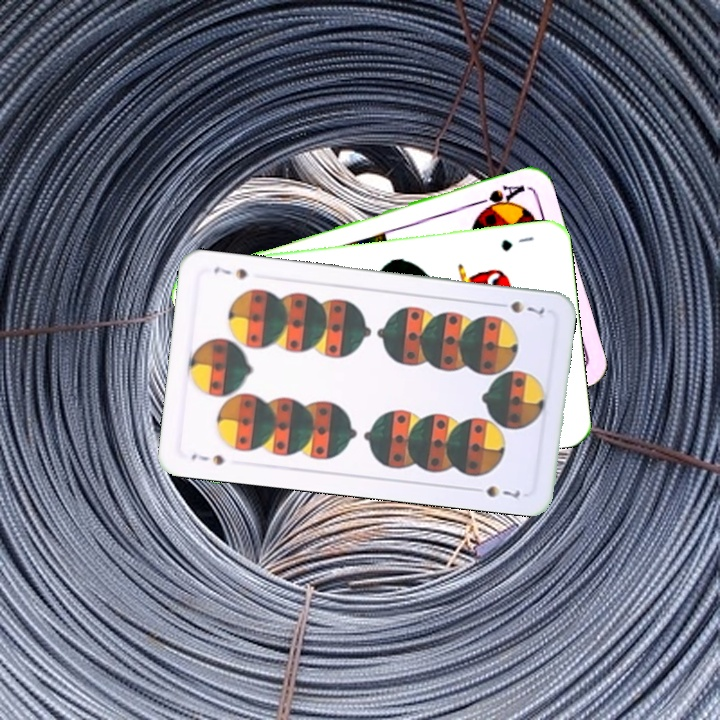GU: (497, 232, 536, 254)
S7: (491, 297, 550, 318), (187, 449, 227, 468)
SA: (470, 180, 528, 217)
